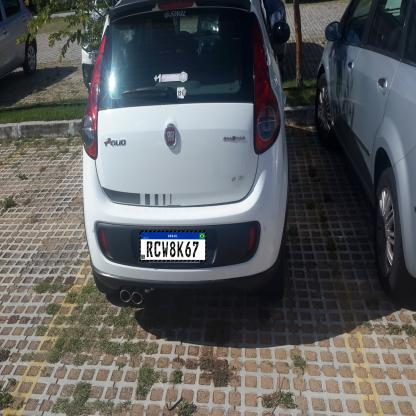PlacaM: (140, 230, 206, 262)
